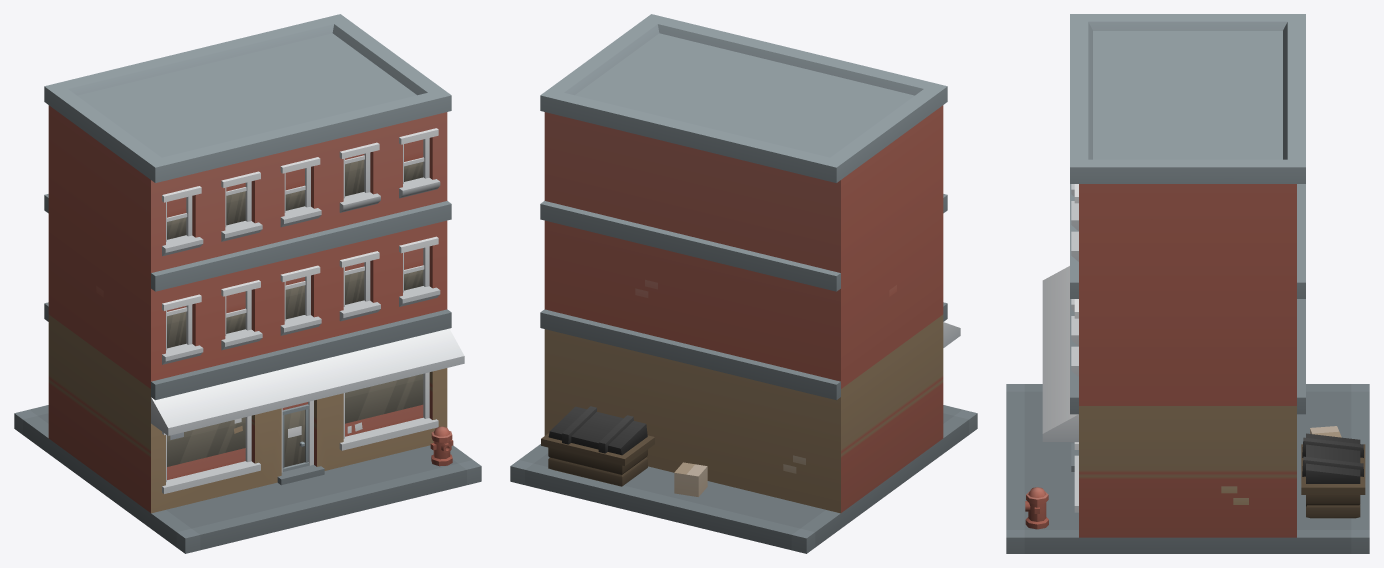
File: london-walkup-a.glb
3 renders of one model, left to right at view 1: azimuth 30°, elevation 25°; view 2: azimuth 150°, elevation 25°; view 3: azimuth 270°, elevation 25°, orthographic. The views are drawn at different scales.
Parts seen in each view (by area): view 1: building_E; view 2: building_E; view 3: building_E.
Boxes of the visible parts, bbox=[...] form: building_E: bbox=[14, 14, 481, 553]; building_E: bbox=[510, 14, 977, 553]; building_E: bbox=[1006, 14, 1369, 553].
Bounding box in the file's own units: 2.01 × 2.35 × 2.
1 material, 1 textured.
